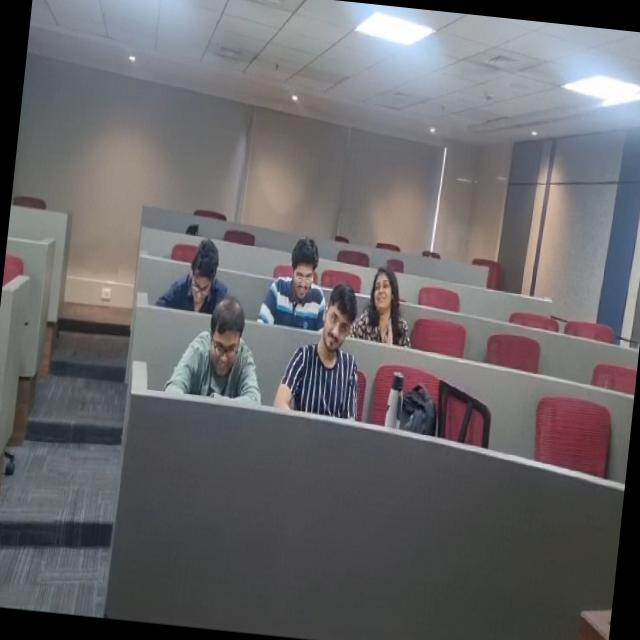cheating: (185, 290, 263, 408), (253, 232, 334, 324), (353, 252, 421, 358)
non-cheating: (290, 276, 368, 416), (160, 232, 236, 320)
